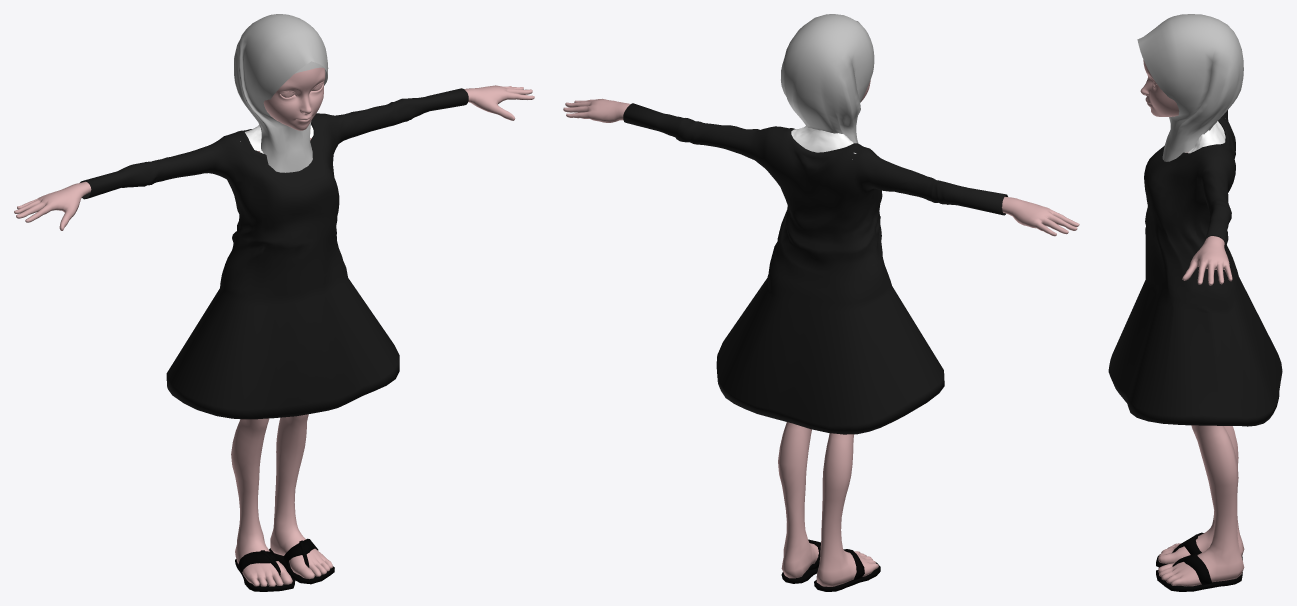
File: muslim_girl.glb
3 renders of one model, left to right at view 1: azimuth 30°, elevation 25°; view 2: azimuth 150°, elevation 25°; view 3: azimuth 270°, elevation 25°, orthographic.
Visible parts, largest first — view 1: Object_4, Object_2, Object_6, Object_3; view 2: Object_4, Object_2, Object_6, Object_5, Object_3; view 3: Object_4, Object_6, Object_2, Object_3, Object_5.
Boxes of the visible parts, bbox=[...] form: Object_4: bbox=[80, 88, 468, 419]; Object_2: bbox=[14, 67, 534, 586]; Object_6: bbox=[234, 14, 328, 172]; Object_3: bbox=[235, 538, 334, 591]; Object_4: bbox=[623, 103, 1007, 434]; Object_2: bbox=[563, 80, 1079, 586]; Object_6: bbox=[781, 14, 874, 143]; Object_5: bbox=[791, 126, 856, 159]; Object_3: bbox=[781, 539, 880, 591]; Object_4: bbox=[1108, 110, 1282, 426]; Object_6: bbox=[1137, 14, 1243, 161]; Object_2: bbox=[1140, 60, 1244, 586]; Object_3: bbox=[1156, 532, 1242, 591]; Object_5: bbox=[1188, 121, 1225, 153].
Bounding box in the file's own units: 1.53 × 1.58 × 0.4489.
